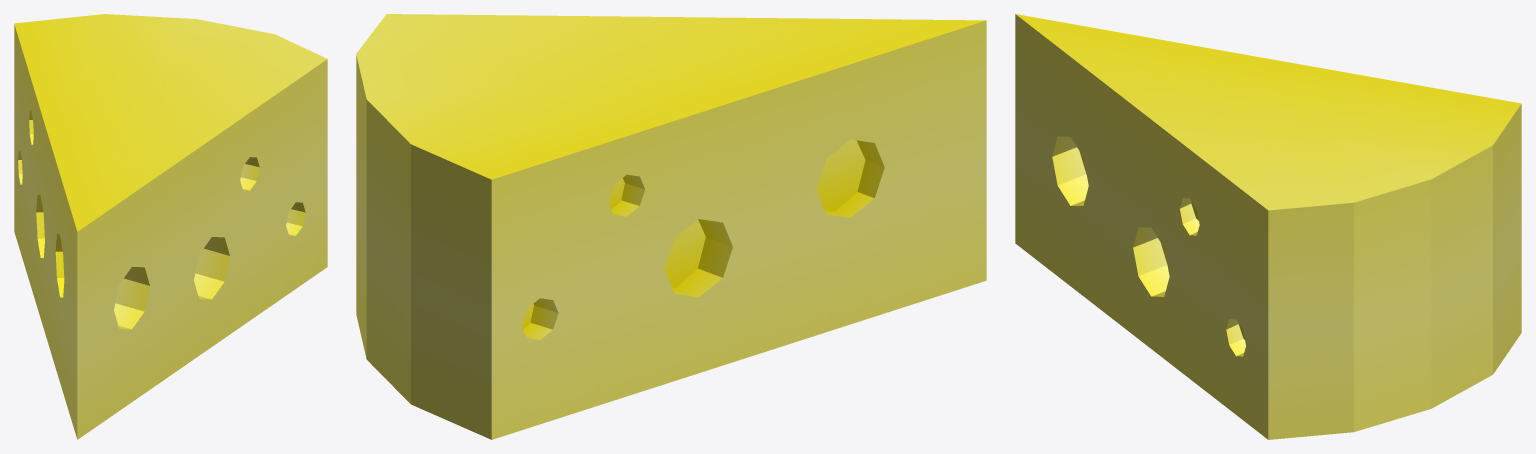
File: cheese.fbx
3 renders of one model, left to right at view 1: azimuth 30°, elevation 25°; view 2: azimuth 150°, elevation 25°; view 3: azimuth 270°, elevation 25°, orthographic. The views are drawn at different scales.
Parts seen in each view (by area): view 1: Cube; view 2: Cube; view 3: Cube.
Boxes of the visible parts, x1=… form: Cube: x1=14, y1=14, x2=327, y2=439; Cube: x1=356, y1=14, x2=986, y2=439; Cube: x1=1015, y1=14, x2=1521, y2=439.
Size of the model in its own units: 367 by 200 by 400.
Materials: 1 (1 with a texture image).
